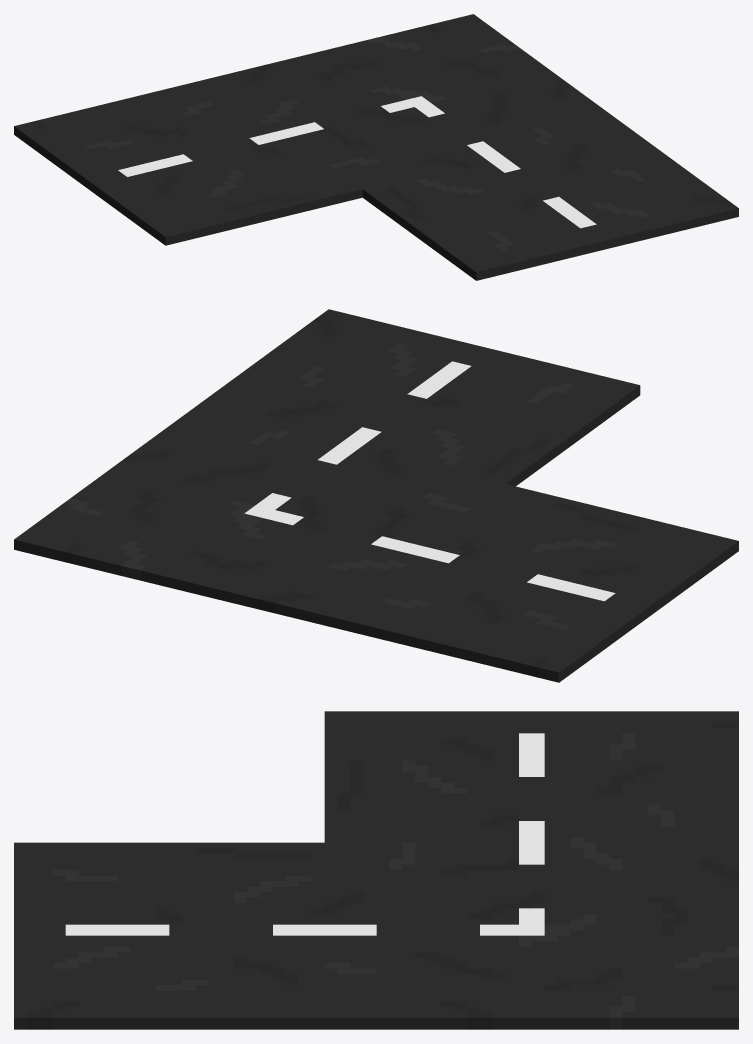
Rendered from corner.gltf.
The picture shows the model from 3 angles, top to bottom: view 1: azimuth 30°, elevation 25°; view 2: azimuth 150°, elevation 25°; view 3: azimuth 270°, elevation 25°; orthographic projection. The views are drawn at different scales.
Visible parts, largest first — view 1: Layer.1; view 2: Layer.1; view 3: Layer.1.
Part boxes in pixels (bbox=[...]): Layer.1: bbox=[14, 14, 738, 280]; Layer.1: bbox=[14, 309, 738, 682]; Layer.1: bbox=[14, 711, 738, 1029].
Size of the model in its own units: 56 by 1 by 56.
1 material, 1 textured.
